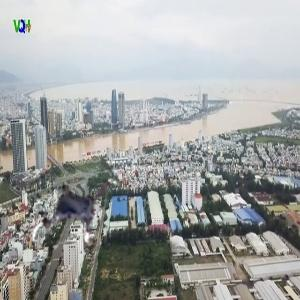drone: (24, 160, 127, 263)
